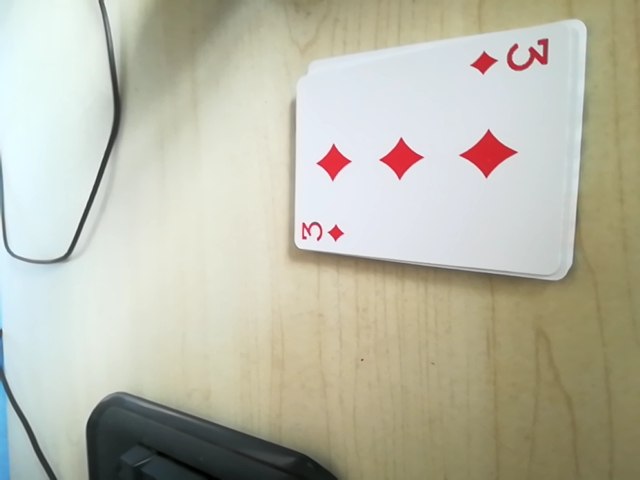fk 3: (468, 32, 553, 83), (291, 211, 349, 251)
